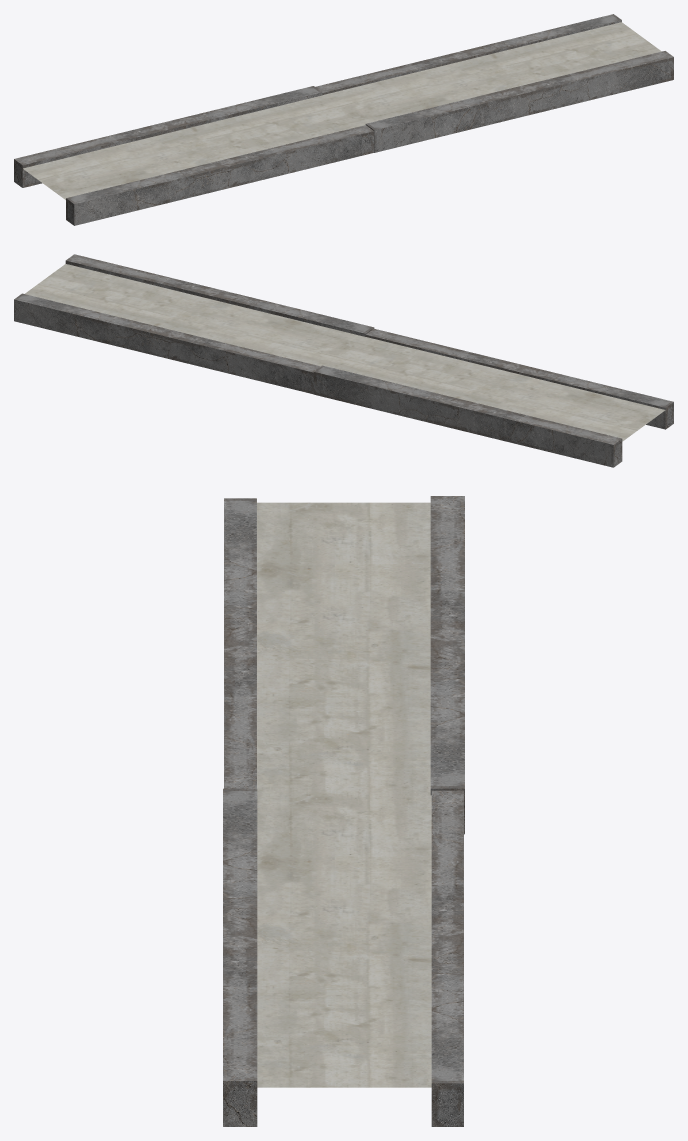
Rendered from HH_Concrete_Island_1.5x8m.fbx.
3 views of the same model, one above another, from view 1: azimuth 30°, elevation 25°; view 2: azimuth 150°, elevation 25°; view 3: azimuth 270°, elevation 25° (orthographic). The views are drawn at different scales.
Visible parts, largest first — view 1: HH_Concrete_Island_1.5x8m; view 2: HH_Concrete_Island_1.5x8m; view 3: HH_Concrete_Island_1.5x8m.
Part boxes in pixels (x1,y1,x2,y2): HH_Concrete_Island_1.5x8m: (14,14,673,225); HH_Concrete_Island_1.5x8m: (14,254,673,467); HH_Concrete_Island_1.5x8m: (223,496,464,1126).
Bounding box in the file's own units: 800 × 29.16 × 140.
